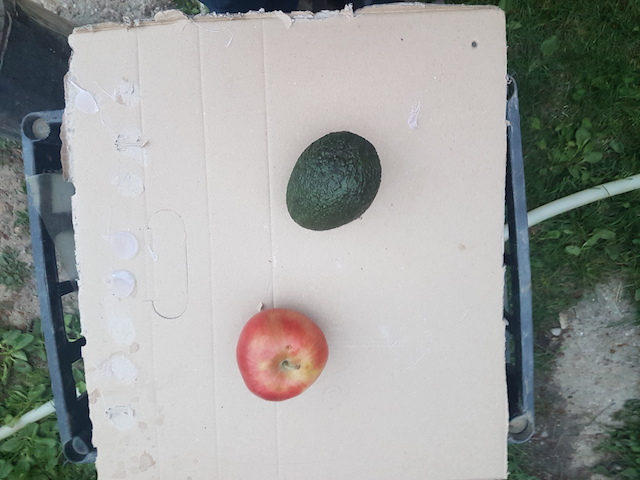apple: (236, 307, 330, 402)
avocado: (286, 130, 382, 232)
